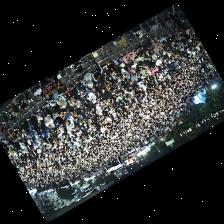person: (91, 57, 103, 82), (41, 109, 53, 128), (51, 113, 62, 130), (59, 98, 70, 115), (79, 72, 92, 86), (64, 86, 76, 101), (104, 62, 117, 75), (121, 50, 133, 64), (44, 100, 58, 112), (133, 45, 146, 57), (58, 110, 69, 124), (86, 87, 95, 103), (54, 95, 66, 107), (27, 116, 37, 129), (103, 73, 113, 86), (39, 125, 46, 143), (75, 81, 86, 92), (75, 87, 86, 98), (19, 121, 29, 133), (27, 121, 33, 141), (70, 95, 80, 107), (32, 112, 42, 124), (85, 100, 95, 112), (80, 104, 89, 117), (158, 35, 168, 46), (138, 59, 149, 69), (165, 33, 176, 43), (95, 82, 106, 92), (152, 45, 164, 54), (86, 82, 96, 92), (102, 91, 111, 102), (9, 130, 18, 140), (120, 68, 129, 78), (133, 54, 142, 64), (114, 57, 123, 66), (150, 37, 159, 46), (18, 142, 26, 152), (123, 63, 133, 71), (142, 52, 151, 60), (184, 27, 192, 36), (111, 74, 120, 82), (32, 130, 38, 141), (146, 43, 152, 54), (140, 68, 148, 76), (154, 59, 162, 67), (49, 73, 57, 81), (169, 42, 179, 48), (79, 97, 84, 109), (95, 104, 101, 114), (174, 28, 179, 40), (4, 135, 11, 143), (151, 53, 157, 62), (155, 52, 162, 59), (131, 64, 137, 72)
